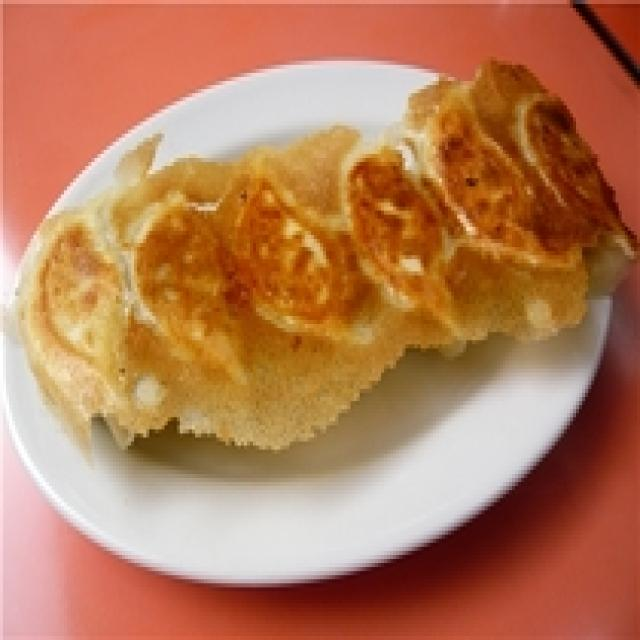带馅早点: (12, 49, 604, 434)
